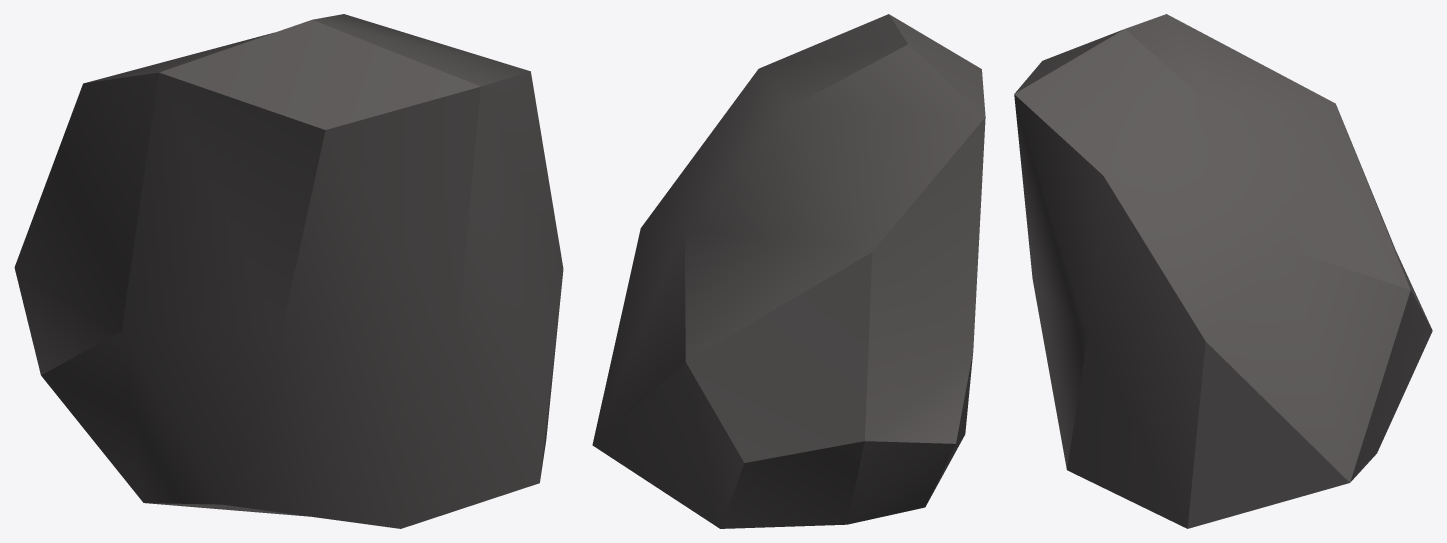
The model's file is Rock2.obj.
The picture shows the model from 3 angles, left to right: view 1: azimuth 30°, elevation 25°; view 2: azimuth 150°, elevation 25°; view 3: azimuth 270°, elevation 25°; orthographic projection. The views are drawn at different scales.
Visible parts, largest first — view 1: rock.002; view 2: rock.002; view 3: rock.002.
Boxes of the visible parts, x1,y1,x2,y2 form: rock.002: [14, 14, 563, 528]; rock.002: [592, 14, 985, 528]; rock.002: [1014, 14, 1432, 528].
Bounding box in the file's own units: 7.91 × 9.39 × 8.22.
1 material, 1 textured.
